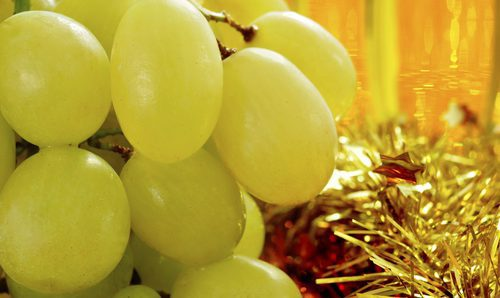Green grapes: (214, 49, 339, 203), (111, 1, 223, 159), (1, 15, 110, 147), (120, 149, 251, 256)
